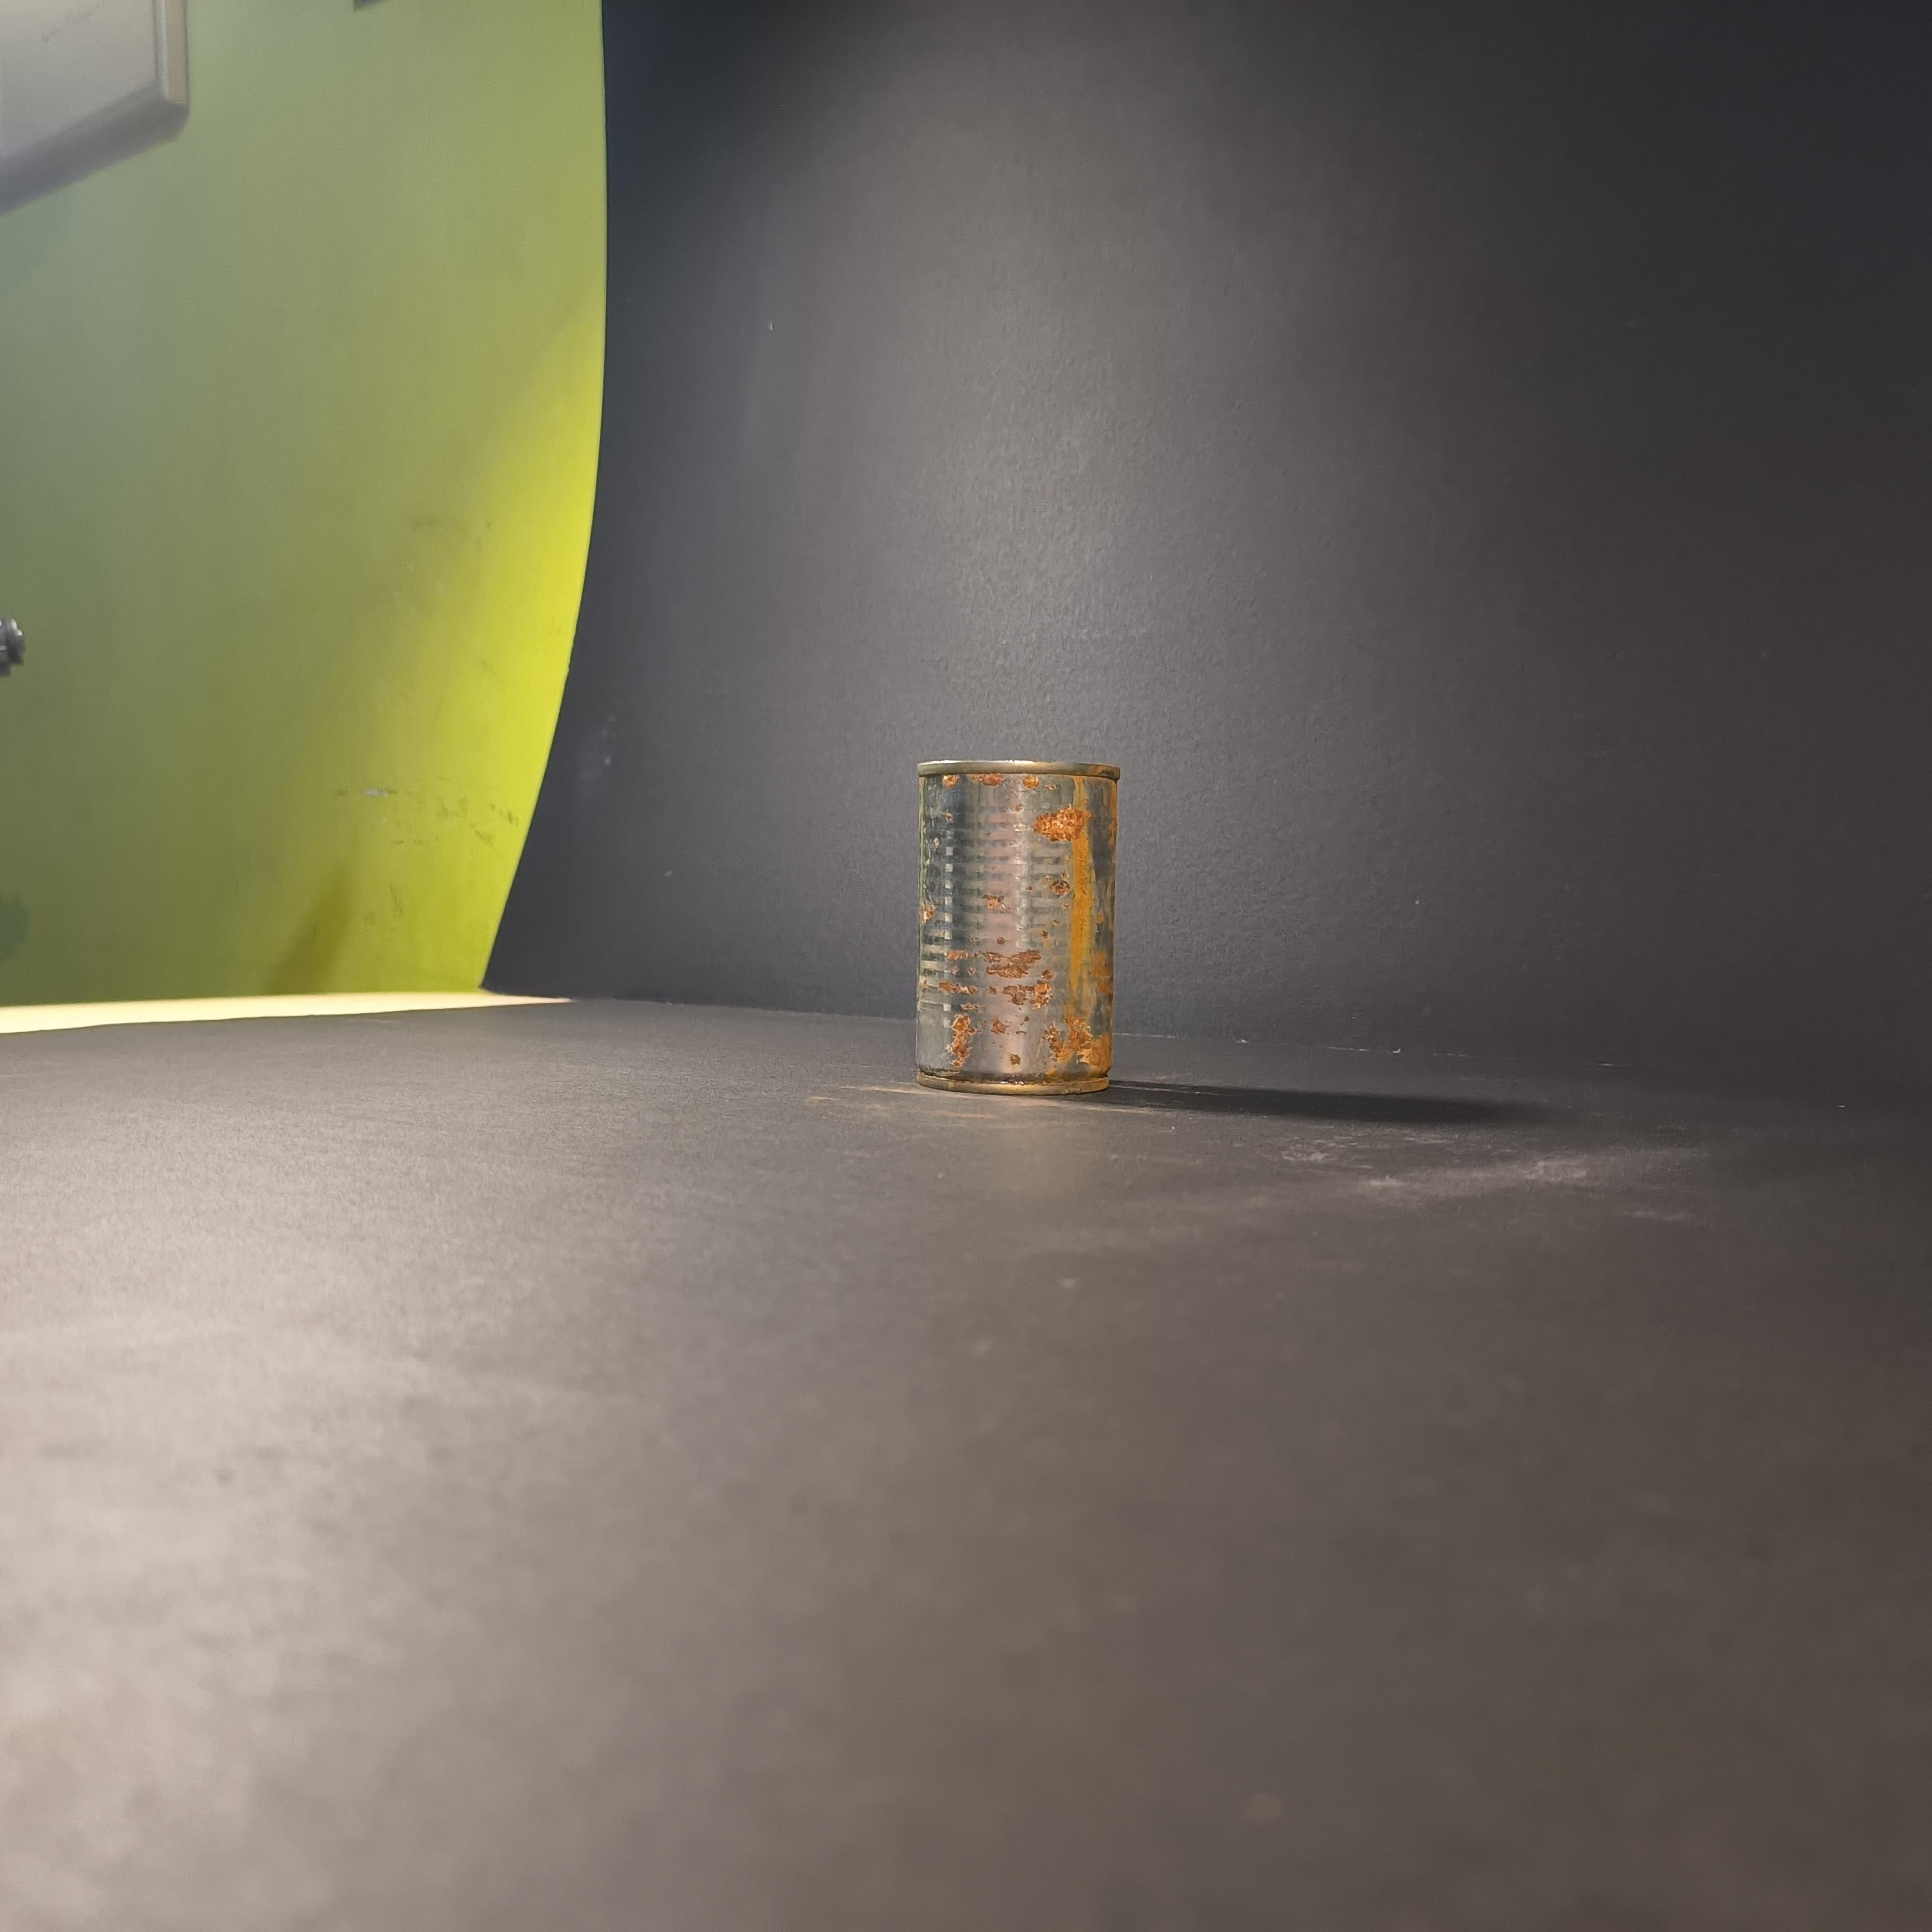Rusted: (902, 743, 1143, 1109)
